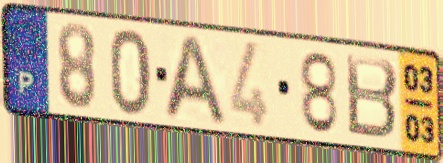0: (107, 26, 153, 118)
4: (227, 38, 273, 134)
8: (55, 20, 99, 112), (296, 49, 339, 136)
A: (159, 32, 231, 129)
B: (343, 51, 400, 143)
